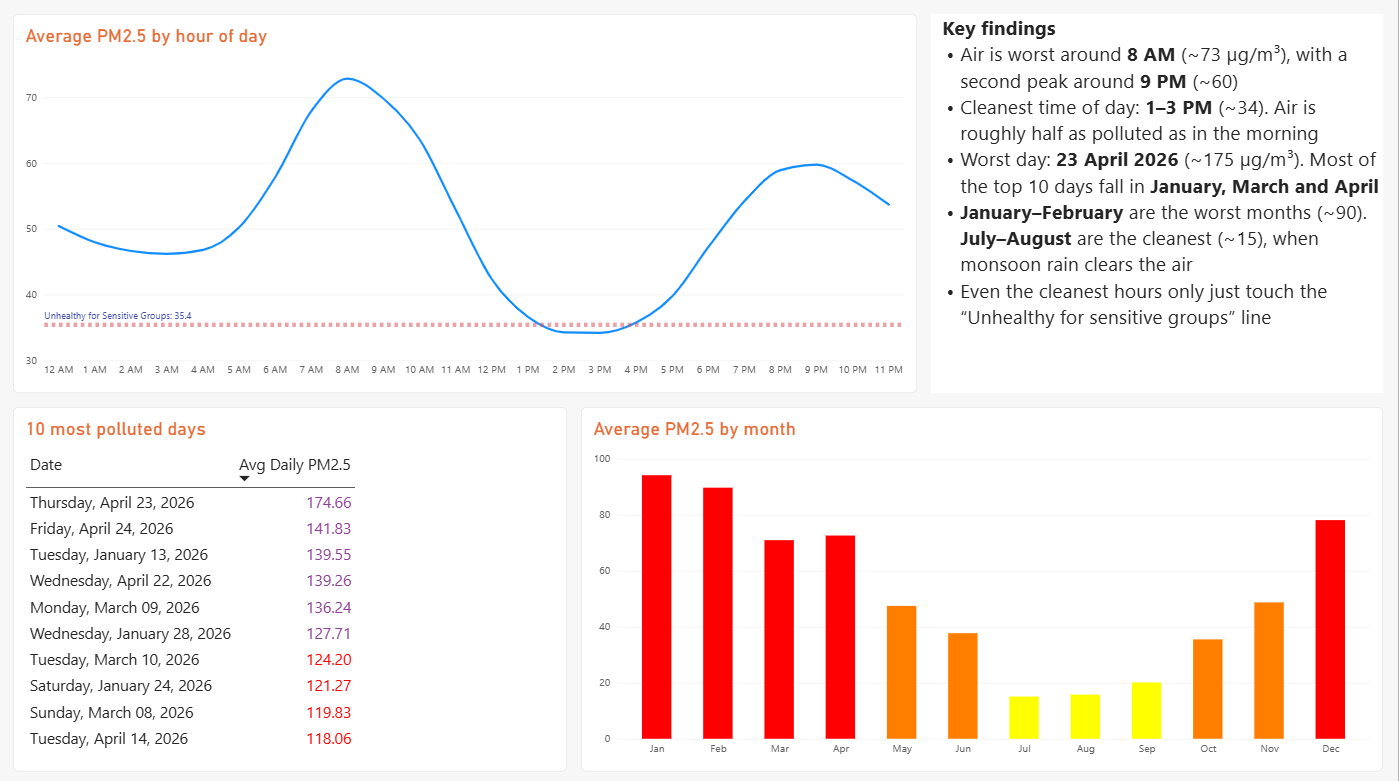

What the dashboard file says about the page in this screenshot:
{"tool":"powerbi","page":{"name":"When is it worst?","canvas":[1920,1080],"ordinal":1},"visuals":[{"type":"lineChart","title":"Average PM2.5 by hour of day","fields":{"Category":["kathmandu_aqi_clean.Hour Label"],"Y":["daily_station_summary.Avg Hourly PM2.5"]},"box":[20,20,1240,520],"z":0},{"type":"tableEx","title":"10 most polluted days","fields":{"Values":["Calendar.Date","Calendar.Avg Daily PM2.5"]},"box":[20,560,760,500],"z":1},{"type":"clusteredColumnChart","title":"Average PM2.5 by month","fields":{"Category":["Calendar.Month"],"Y":["Calendar.Avg Daily PM2.5"]},"box":[800,560,1100,500],"z":2},{"type":"textbox","box":[1280,20,620,520],"z":3}]}

Visuals, with their boxes in screenshot pixels (x1, y1, x2, y2), scaled from the page's 1920x1080 canvas onto the 1399x781 screenshot:
"Average PM2.5 by hour of day" lineChart: x1=15, y1=14, x2=918, y2=390
"10 most polluted days" tableEx: x1=15, y1=405, x2=568, y2=767
"Average PM2.5 by month" clusteredColumnChart: x1=583, y1=405, x2=1384, y2=767
textbox: x1=933, y1=14, x2=1384, y2=390
